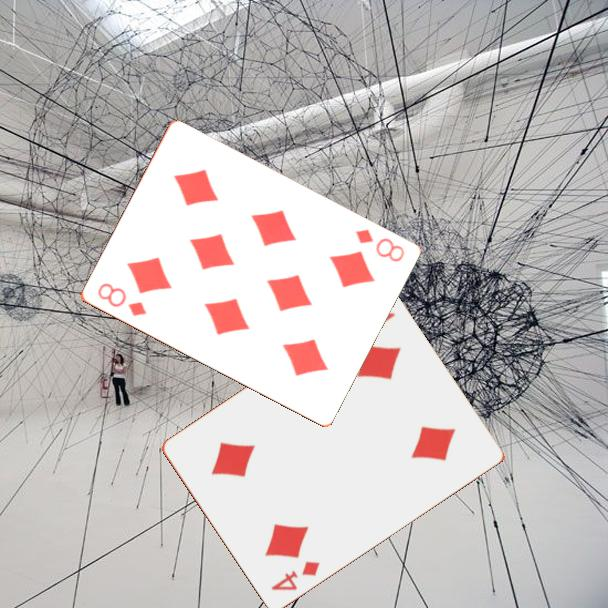d04: (267, 558, 322, 594)
d08: (93, 279, 149, 319), (351, 226, 407, 265)
